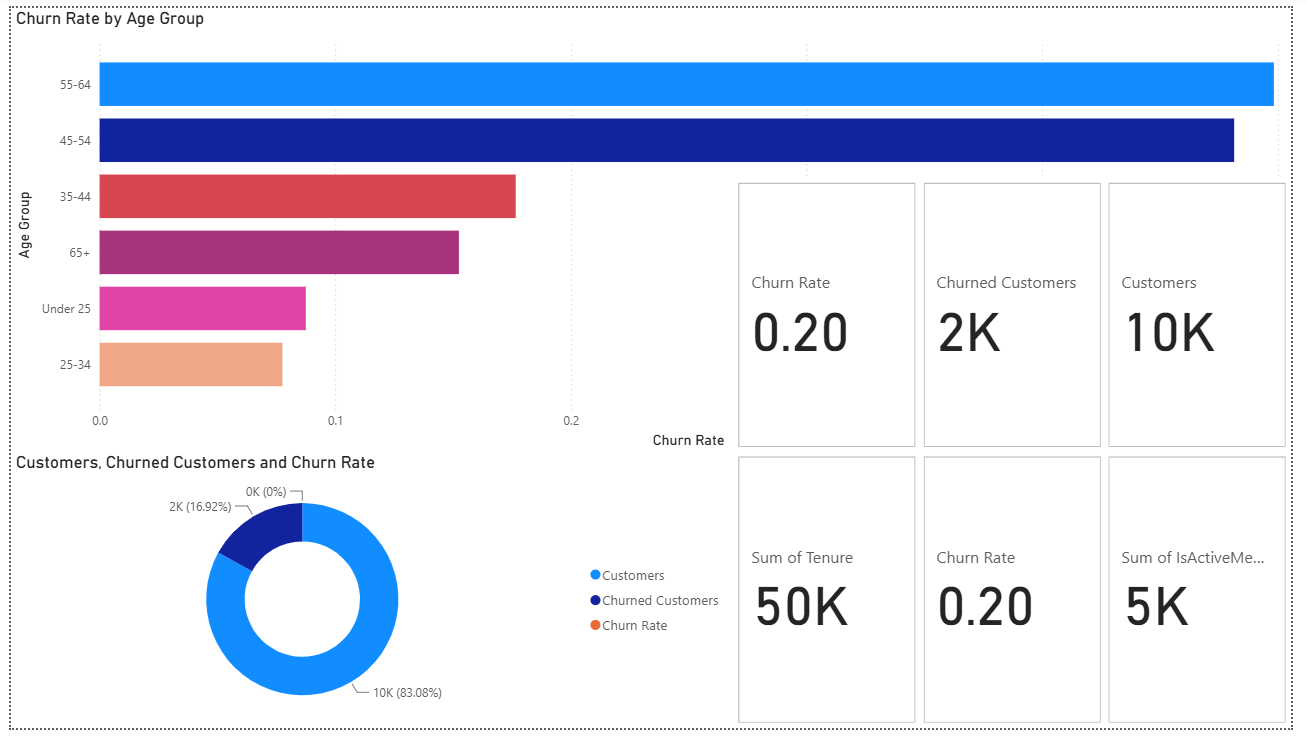

What the dashboard file says about the page in this screenshot:
{"tool":"powerbi","page":{"name":"Churn Drivers","canvas":[1280,720],"ordinal":1},"visuals":[{"type":"clusteredBarChart","fields":{"Category":["Bank_Churn.Age Group"],"Y":["Bank_Churn.Churn Rate"]},"box":[0,0,1280,445],"z":0},{"type":"cardVisual","fields":{"Data":["Bank_Churn.Churn Rate","Bank_Churn.Churned Customers","Bank_Churn.Customers"]},"box":[722,170,558,274],"z":2},{"type":"cardVisual","fields":{"Data":["Sum(Bank_Churn.Tenure)","Bank_Churn.Churn Rate","Sum(Bank_Churn.IsActiveMember)"]},"box":[722,444,558,276],"z":4},{"type":"donutChart","fields":{"Y":["Bank_Churn.Customers","Bank_Churn.Churned Customers","Bank_Churn.Churn Rate"]},"box":[0,444,722,276],"z":5}]}

Visuals, with their boxes in screenshot pixels (x1, y1, x2, y2), scaled from the page's 1280x720 canvas onto the 1307x737 screenshot:
clusteredBarChart - Bank_Churn.Age Group x Bank_Churn.Churn Rate: select_region(0, 0, 1306, 456)
cardVisual - Bank_Churn.Churn Rate x Bank_Churn.Churned Customers: select_region(737, 174, 1306, 454)
cardVisual - Sum(Bank_Churn.Tenure) x Bank_Churn.Churn Rate: select_region(737, 454, 1306, 736)
donutChart - Bank_Churn.Customers x Bank_Churn.Churned Customers: select_region(0, 454, 737, 736)
